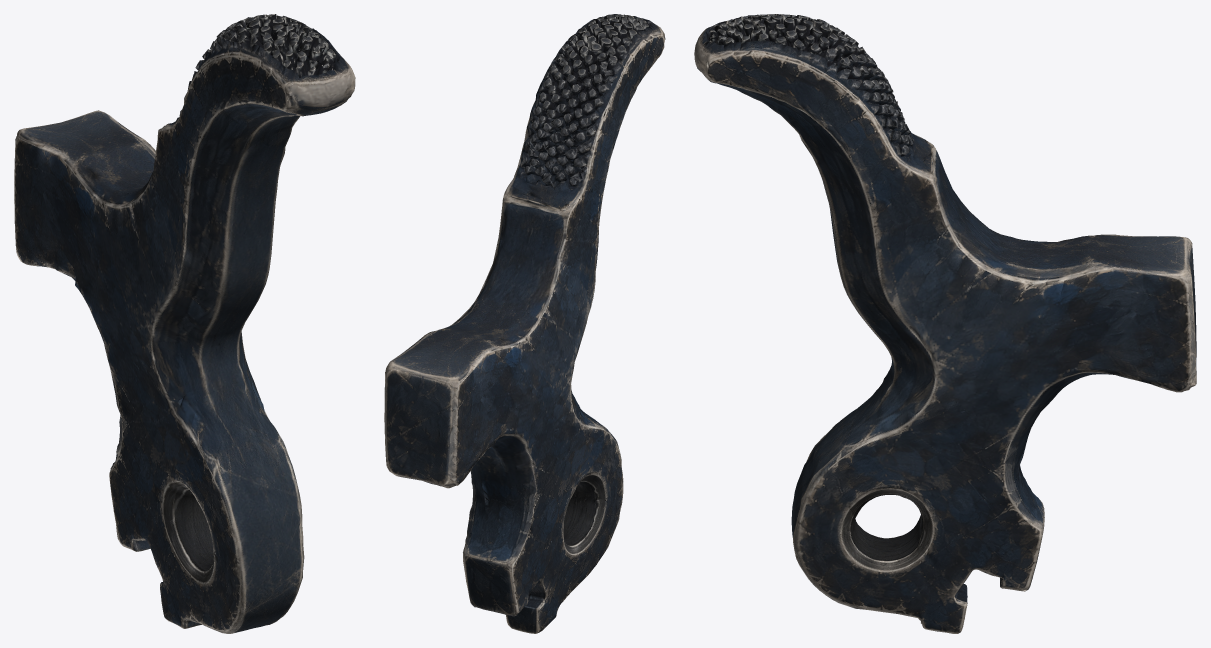
Rendered from rv_hammer.glb.
3 views of the same model, side by side, from view 1: azimuth 30°, elevation 25°; view 2: azimuth 150°, elevation 25°; view 3: azimuth 270°, elevation 25° (orthographic). The views are drawn at different scales.
Parts seen in each view (by area): view 1: Mesh_0; view 2: Mesh_0; view 3: Mesh_0.
Part boxes in pixels (x1,y1,x2,y2): Mesh_0: (14, 14, 355, 633); Mesh_0: (384, 14, 665, 633); Mesh_0: (694, 14, 1196, 633).
Bounding box in the file's own units: 0.00753 × 0.0504 × 0.0377.
1 material, 1 textured.
